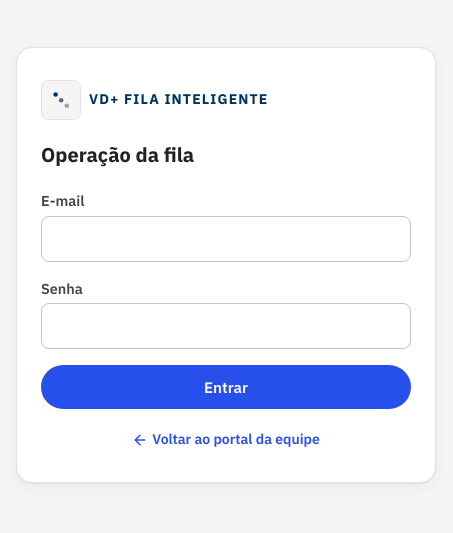
Test: StaffLoginForm › shows a sensible error when the server returns a non-JSON error body
Type "operadora@example.com" into the field labelled "E-mail" at (226, 238), box [41, 216, 411, 262]
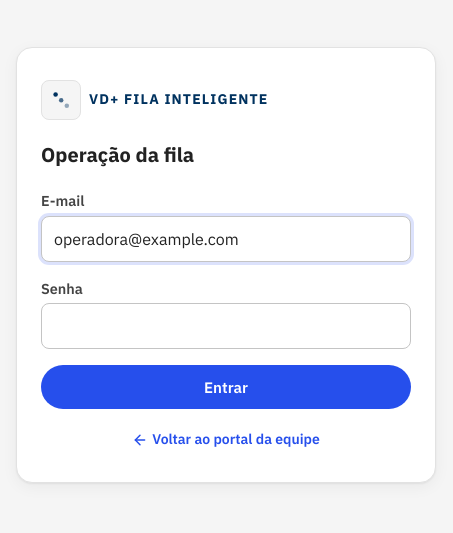
Type "password123" into the password field labelled "Senha" at (226, 326), box [41, 303, 411, 349]
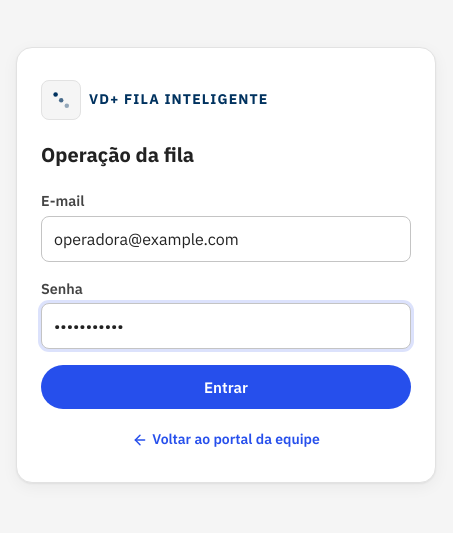
Click the button "Entrar" at (226, 387), box [41, 365, 411, 409]
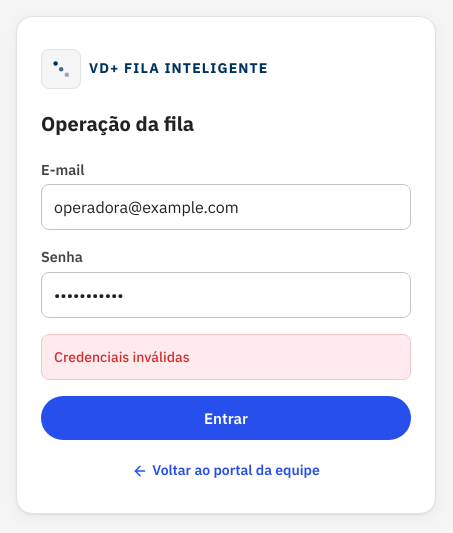
Check: the button "Entrar" is enabled, box [41, 396, 411, 440]
Check: the message reads "Credenciais inválidas", box [54, 348, 190, 366]
